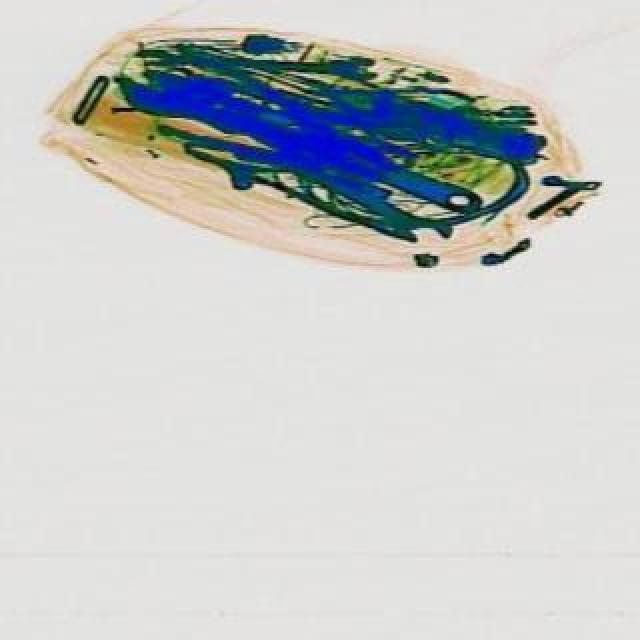scissors: (110, 50, 494, 238), (260, 138, 460, 258)
